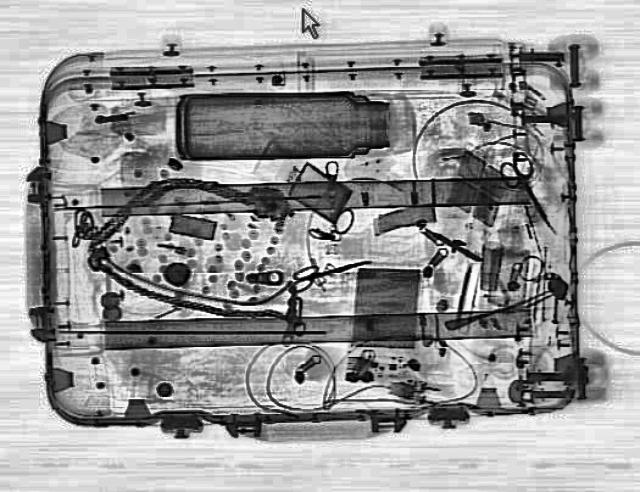Scissors: (486, 148, 572, 236), (282, 248, 378, 293)
